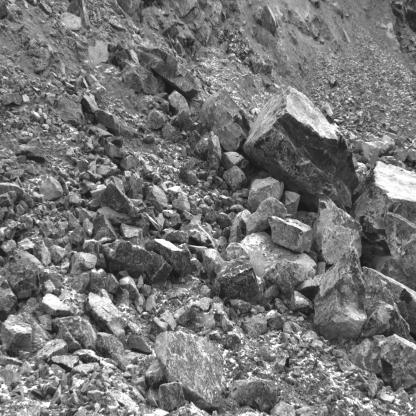stone: (241, 86, 359, 204), (354, 163, 416, 284), (154, 330, 228, 411), (315, 247, 366, 343), (243, 232, 314, 292), (362, 266, 416, 340), (102, 240, 172, 291), (314, 191, 362, 263), (138, 44, 202, 95), (199, 88, 248, 152), (2, 251, 48, 300), (379, 335, 416, 393), (0, 312, 51, 354), (88, 292, 126, 339), (266, 216, 314, 253), (215, 258, 259, 298), (148, 238, 192, 277), (53, 315, 98, 352), (230, 378, 277, 412), (246, 172, 284, 211), (100, 183, 140, 220), (245, 199, 286, 235), (350, 334, 386, 374), (94, 331, 127, 371), (122, 63, 160, 95), (0, 276, 18, 322), (92, 214, 119, 244), (14, 138, 47, 162), (159, 382, 186, 409), (207, 131, 222, 178), (119, 223, 146, 249), (186, 224, 215, 248), (144, 182, 167, 212), (167, 89, 191, 116), (39, 177, 64, 202), (222, 166, 246, 192), (244, 311, 267, 337), (281, 190, 301, 219), (290, 291, 314, 314), (222, 241, 249, 261), (221, 151, 249, 170), (172, 111, 195, 134), (162, 123, 183, 146), (195, 131, 210, 161), (264, 310, 285, 330), (162, 229, 189, 244), (147, 109, 166, 130), (172, 192, 191, 213), (176, 308, 197, 326), (128, 178, 144, 201), (261, 285, 279, 305), (229, 299, 252, 314), (120, 156, 138, 172)
